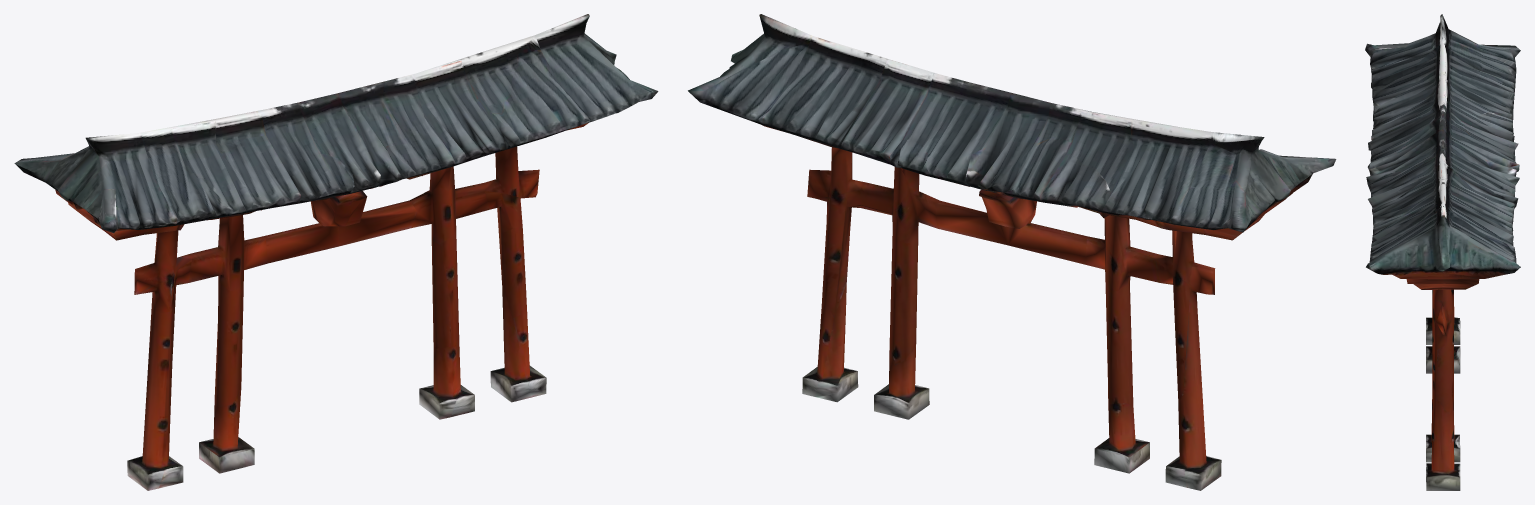
The model's file is torii.glb.
3 views of the same model, side by side, from view 1: azimuth 30°, elevation 25°; view 2: azimuth 150°, elevation 25°; view 3: azimuth 270°, elevation 25° (orthographic). The views are drawn at different scales.
Size of the model in its own units: 1.9 by 1.17 by 0.5567.
1 material, 1 textured.
